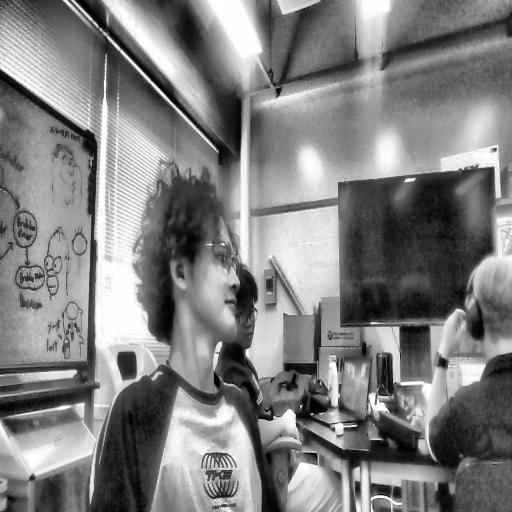Daifuku: (136, 171, 240, 354)
Not Daifuku: (467, 256, 512, 353), (241, 273, 260, 356)
